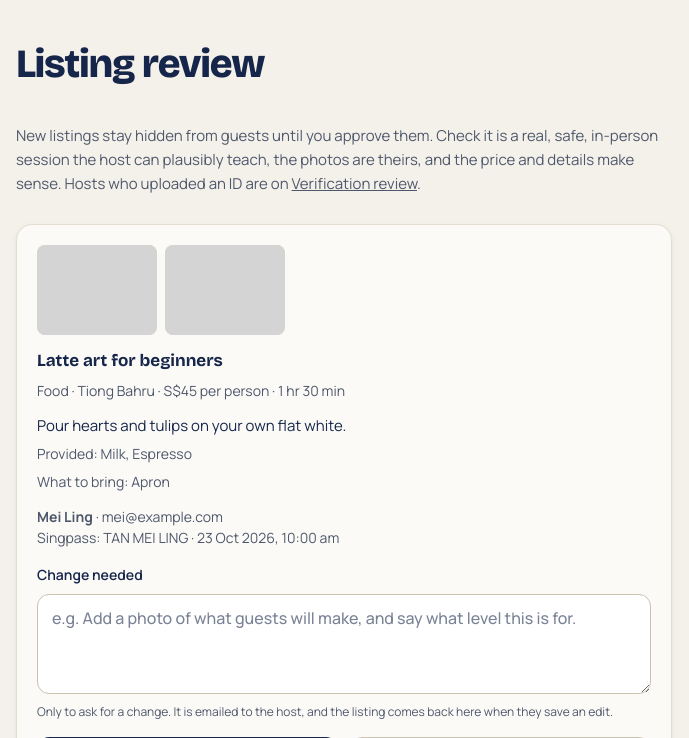
Scenario: AdminListings › sends the note to the host and moves the listing to "waiting on the host"
Expected: the text "Latte art for beginners" is shown, [37,350,223,371]
Type "  Add a photo of the latte  " into the text box.
click(344, 644); type("  Add a photo of the latte  ")  # box [37,594,651,694]
(page scrolled)
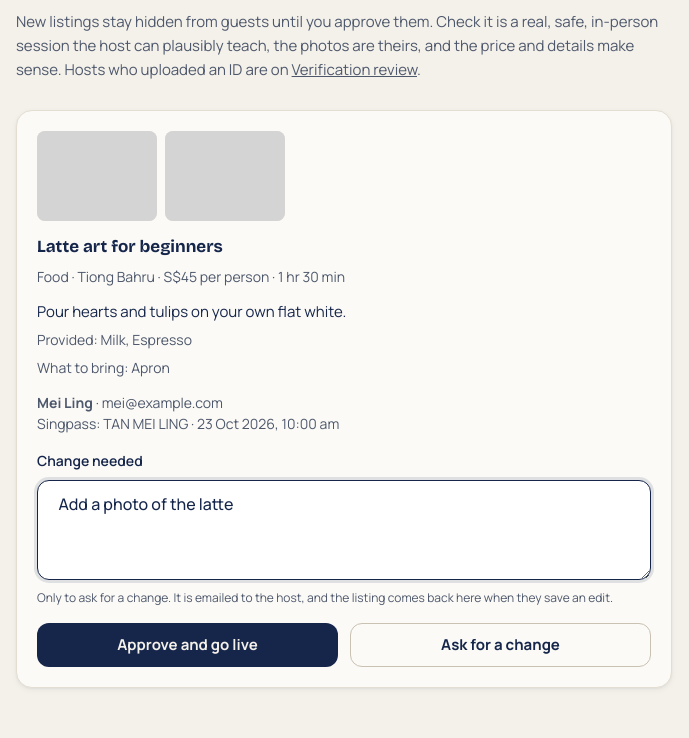
Click the button "Ask for a change".
click(500, 645)  # box [350,623,651,667]
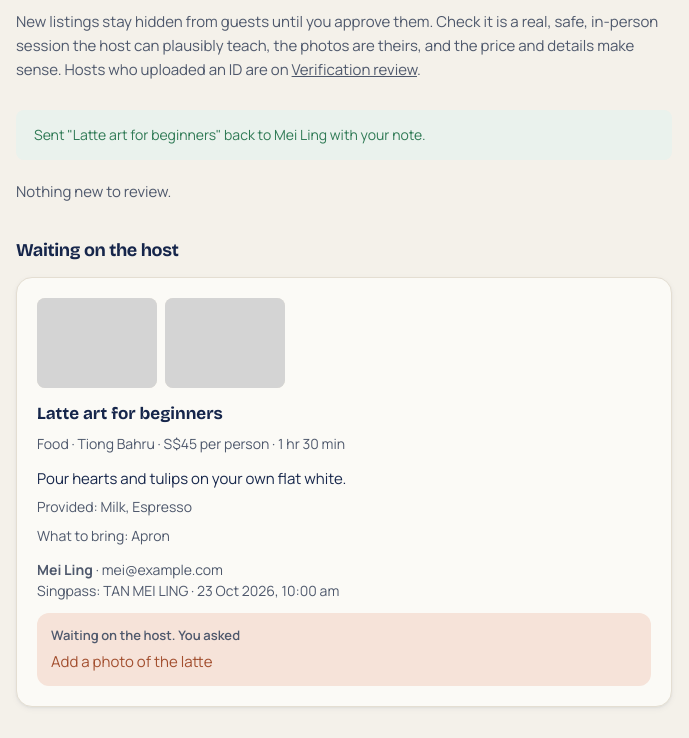
Expected: the text "Sent \"Latte art for beginners\" back to Mei Ling with your note." is shown, [16,110,672,160]
Expected: the heading "Waiting on the host" is shown, [16,239,178,261]
Expected: the text "Add a photo of the latte" is shown, [51,651,212,672]
